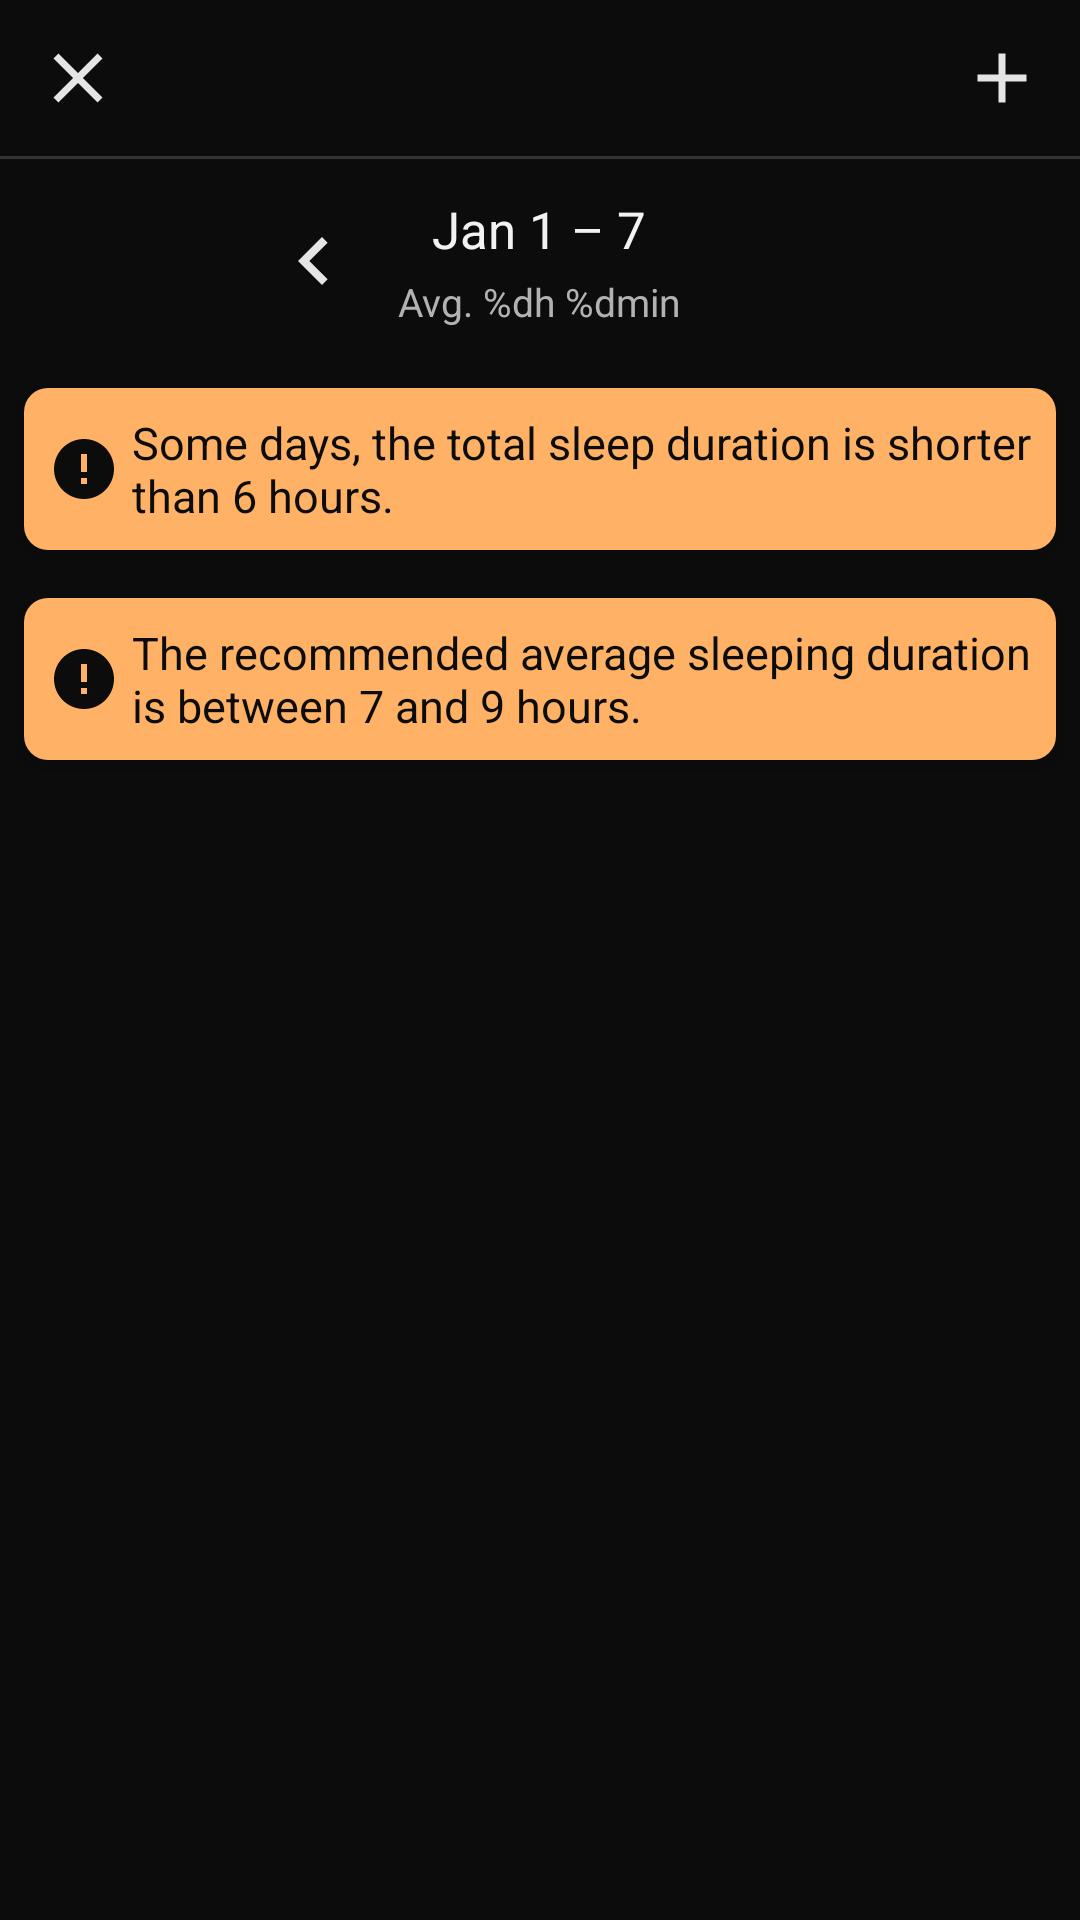

Screen size 1080w x 1920h. Icon name, then its box in pixels as (x1, y1, x2, y2):
add: (977, 53, 1027, 103)
close: (53, 53, 103, 103)
error: (54, 439, 114, 499), (54, 649, 114, 709)
keyboard arrow left: (298, 237, 328, 285)
